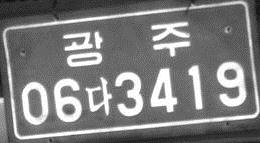0: (21, 81, 49, 125)
1: (181, 66, 210, 111)
3: (114, 71, 143, 117)
4: (150, 68, 177, 112)
6: (52, 77, 82, 123)
9: (216, 61, 247, 108)
광주_D: (62, 21, 190, 66)
다: (84, 76, 112, 116)
